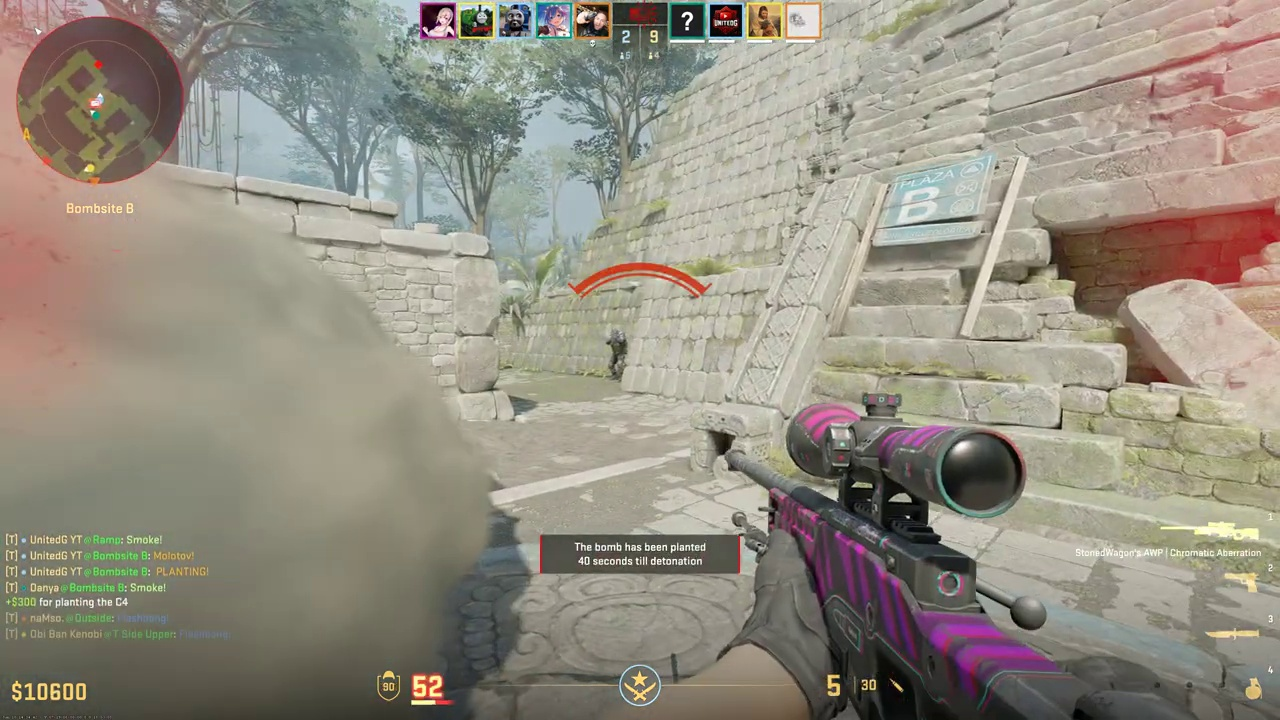CT: (608, 329, 628, 379)
